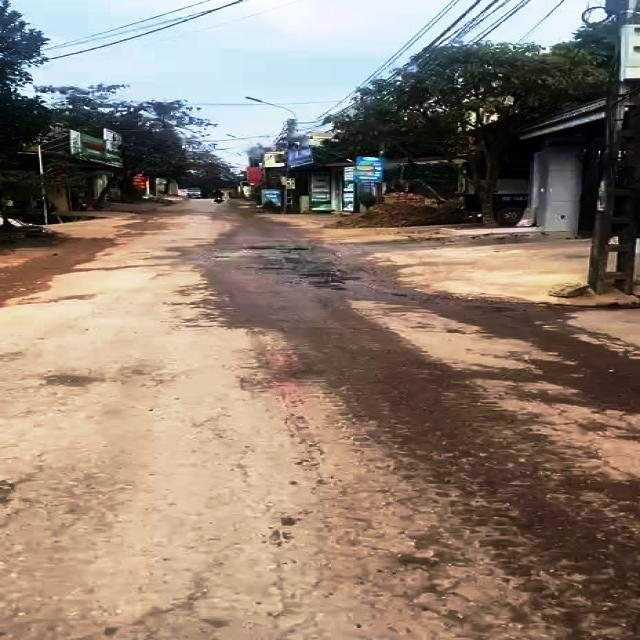pothole: (298, 269, 360, 292), (48, 374, 97, 388), (282, 253, 318, 268)
